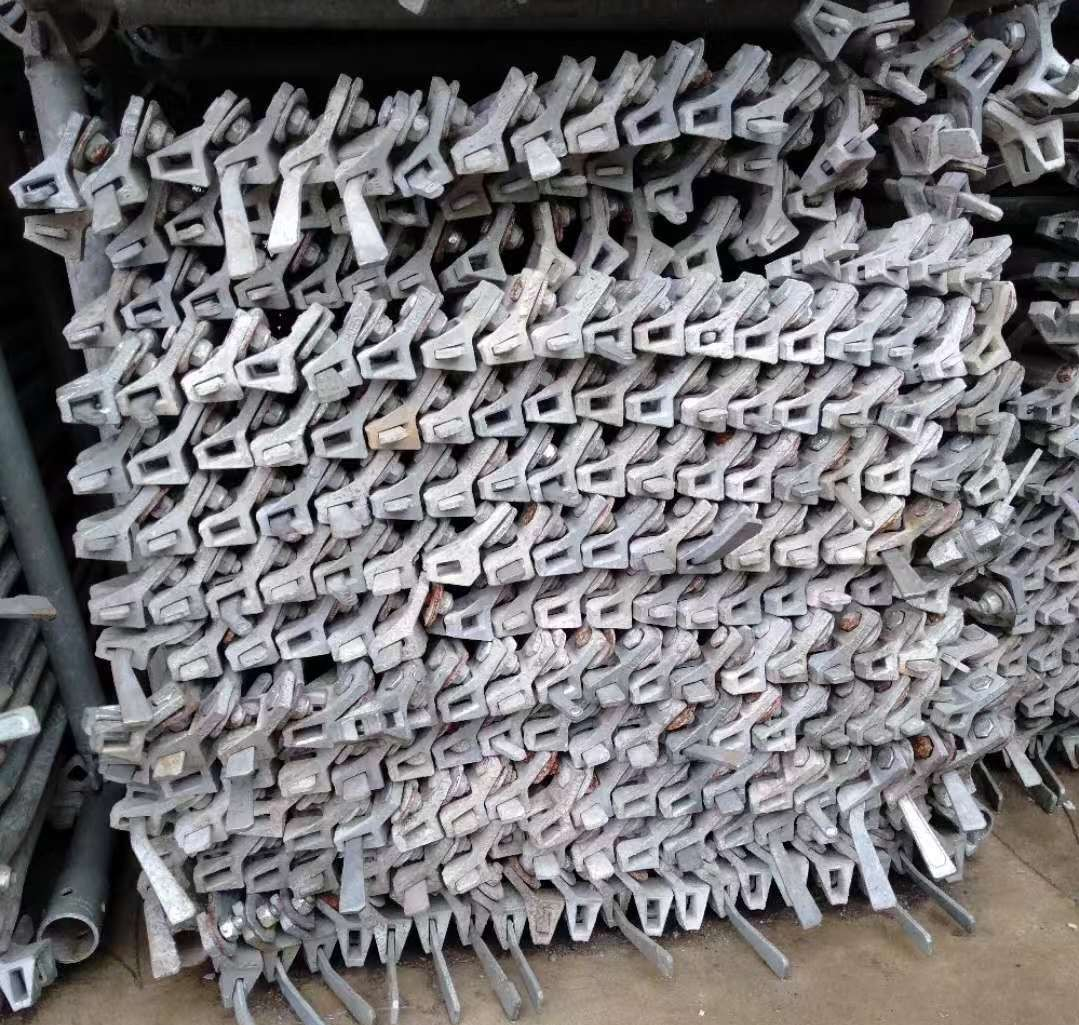circle_steel: (34, 912, 102, 968), (166, 928, 208, 970)
sigma_steel: (950, 36, 1019, 101), (148, 139, 211, 190), (234, 351, 298, 398), (89, 714, 146, 766), (679, 94, 734, 144), (2, 950, 45, 1013), (1023, 117, 1068, 176), (359, 699, 413, 746), (622, 105, 681, 148), (126, 450, 189, 489), (453, 243, 511, 285), (989, 534, 1040, 581), (194, 433, 253, 473), (358, 343, 418, 382), (312, 421, 369, 462), (633, 316, 686, 360), (670, 238, 726, 279), (200, 509, 258, 548), (965, 330, 1011, 379), (276, 620, 329, 662), (424, 549, 483, 586), (474, 400, 527, 441), (576, 386, 625, 430), (522, 386, 577, 425), (865, 457, 917, 498), (736, 323, 782, 369), (814, 856, 856, 906), (286, 714, 336, 755), (879, 401, 926, 444), (621, 392, 674, 430), (441, 606, 494, 644), (533, 540, 584, 579), (537, 593, 585, 634), (583, 594, 634, 632), (583, 236, 630, 277), (576, 461, 628, 498), (674, 465, 726, 502), (962, 465, 1010, 505), (907, 575, 951, 618), (564, 896, 603, 944), (720, 657, 769, 695), (193, 862, 246, 897), (637, 882, 672, 935), (774, 399, 820, 439), (440, 688, 489, 725), (780, 326, 825, 366), (727, 465, 772, 505), (676, 883, 712, 933), (336, 924, 373, 972), (582, 536, 629, 573), (241, 191, 278, 237), (390, 819, 443, 851), (530, 816, 576, 852), (281, 824, 336, 854), (658, 788, 706, 822), (857, 646, 901, 683), (741, 862, 774, 911), (613, 789, 659, 824), (626, 670, 671, 705), (752, 721, 799, 754), (933, 703, 976, 739), (243, 864, 292, 895), (751, 783, 794, 817), (766, 586, 810, 619), (527, 722, 571, 755), (619, 839, 661, 873), (852, 577, 896, 609), (721, 595, 761, 629), (245, 808, 287, 840), (710, 724, 751, 755), (357, 865, 394, 899), (1033, 394, 1073, 425), (406, 698, 440, 733), (300, 192, 328, 234), (1045, 554, 1079, 586), (716, 824, 754, 852), (1022, 692, 1057, 720), (1032, 643, 1064, 671), (1001, 652, 1029, 677), (1007, 614, 1037, 635)
sigma_steel_blocked: (792, 1, 859, 63), (8, 161, 83, 212), (19, 213, 88, 266), (103, 223, 171, 273), (393, 149, 456, 201), (1021, 53, 1079, 109), (78, 168, 150, 211), (730, 98, 789, 150), (112, 376, 181, 420), (54, 383, 120, 428), (164, 203, 224, 251), (63, 305, 123, 353), (88, 585, 151, 630), (67, 455, 130, 497), (212, 146, 278, 186), (872, 52, 927, 100), (450, 134, 511, 177), (365, 629, 426, 672), (566, 112, 623, 158), (146, 738, 211, 778), (279, 142, 338, 186), (214, 730, 277, 771), (218, 955, 261, 1014), (73, 523, 133, 565), (137, 519, 197, 561), (510, 120, 567, 164), (234, 268, 291, 312), (333, 157, 394, 198), (303, 352, 361, 394), (180, 366, 244, 404), (419, 333, 478, 374), (205, 582, 264, 623), (684, 318, 737, 363), (826, 131, 881, 174), (918, 115, 958, 174), (313, 489, 371, 529), (106, 801, 165, 840), (366, 413, 422, 454), (146, 588, 208, 625), (642, 177, 694, 221), (749, 212, 801, 256), (180, 282, 237, 322), (532, 322, 586, 364), (529, 245, 577, 292), (91, 633, 150, 671), (256, 500, 313, 539), (370, 483, 425, 523), (362, 555, 417, 595), (527, 463, 578, 506), (223, 635, 280, 673), (123, 293, 181, 330), (439, 855, 491, 896), (250, 433, 309, 469), (910, 460, 958, 504), (729, 146, 781, 186), (478, 329, 534, 366), (803, 235, 848, 281), (443, 183, 492, 225), (260, 568, 317, 604), (480, 548, 534, 586), (166, 646, 223, 682), (583, 322, 633, 363), (526, 898, 567, 948), (386, 263, 444, 298), (773, 859, 814, 908), (784, 189, 838, 226), (338, 265, 392, 302), (289, 275, 346, 310), (431, 732, 483, 770), (327, 621, 374, 663), (912, 252, 953, 300), (680, 395, 728, 436), (260, 936, 301, 984), (424, 408, 473, 448), (628, 463, 677, 503), (583, 666, 632, 706), (393, 865, 443, 904), (488, 681, 539, 719), (371, 919, 413, 965), (826, 329, 873, 370), (633, 591, 680, 632), (413, 912, 454, 959), (426, 483, 478, 520), (288, 863, 340, 900), (772, 468, 820, 508), (477, 469, 530, 505), (276, 765, 329, 801), (822, 399, 870, 438), (534, 670, 582, 709), (629, 540, 678, 578), (309, 563, 365, 596), (589, 156, 634, 197), (820, 462, 865, 503), (491, 600, 537, 640), (490, 904, 530, 950), (173, 815, 227, 849), (332, 761, 384, 796), (631, 236, 674, 278), (866, 252, 913, 290), (916, 348, 967, 383), (571, 796, 616, 835), (934, 174, 972, 220), (930, 753, 976, 791), (672, 666, 719, 703), (951, 257, 985, 308), (770, 646, 811, 688), (452, 904, 490, 949), (376, 198, 429, 230), (441, 800, 488, 836), (959, 400, 1003, 438), (884, 777, 928, 815), (483, 788, 532, 822), (661, 833, 708, 868), (519, 848, 572, 879), (807, 577, 850, 615), (811, 650, 854, 688), (678, 595, 722, 632), (330, 825, 388, 853), (776, 536, 821, 572), (385, 751, 437, 782), (726, 542, 772, 577), (492, 175, 539, 209), (678, 544, 725, 578), (867, 536, 914, 570), (730, 397, 773, 434), (704, 779, 748, 815), (825, 534, 870, 569), (571, 841, 617, 875), (302, 932, 336, 978), (569, 736, 617, 768), (900, 643, 941, 680), (541, 170, 589, 201), (602, 884, 634, 930), (711, 872, 743, 918), (617, 733, 661, 766), (874, 335, 913, 372), (480, 726, 525, 757), (841, 786, 882, 820), (846, 716, 889, 748), (753, 817, 796, 849), (889, 832, 917, 878), (669, 731, 709, 763), (808, 721, 849, 751), (797, 786, 839, 815), (890, 706, 918, 749), (1038, 600, 1071, 628)
